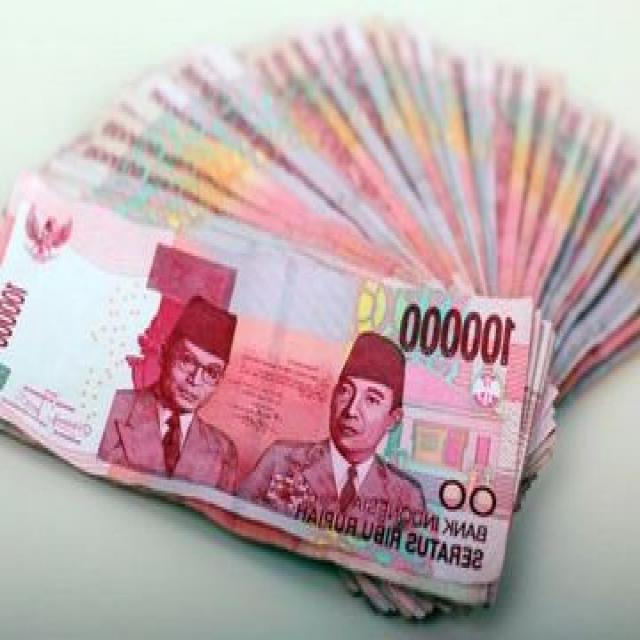seratus ribu rupiah: (0, 224, 548, 538)
